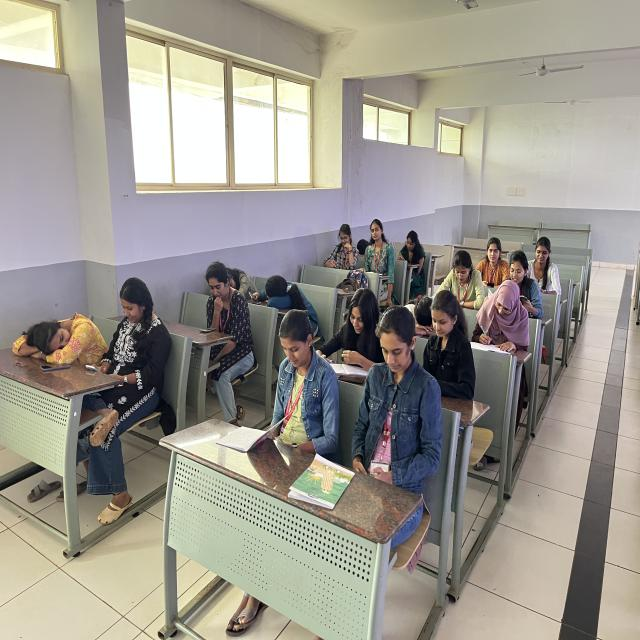Sleeping: (262, 265, 322, 326), (223, 248, 250, 304)
Using Phone: (354, 308, 433, 486), (75, 276, 169, 406), (265, 311, 338, 452), (173, 254, 246, 354), (476, 231, 510, 290)
Writing: (318, 287, 379, 381), (472, 266, 522, 360)
